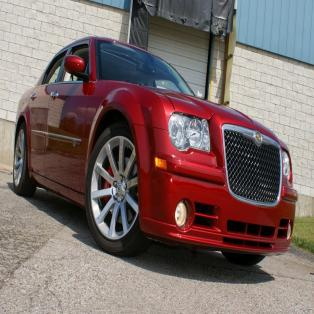Auto: (13, 36, 297, 258)
